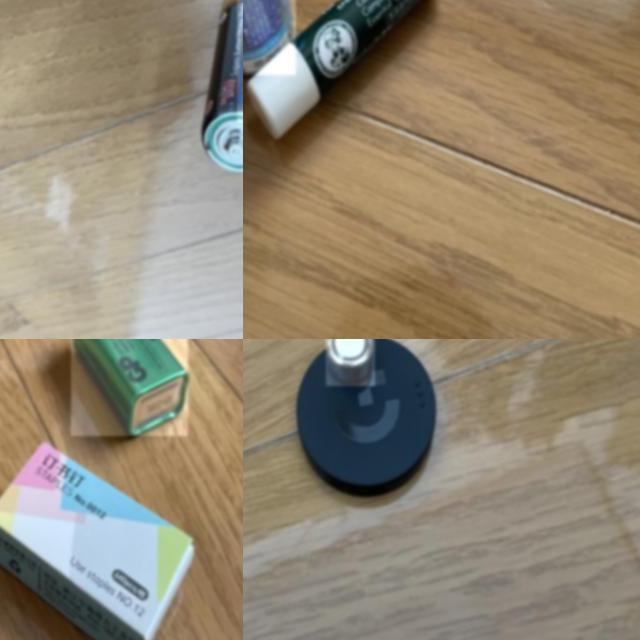9V: (71, 339, 188, 436)
